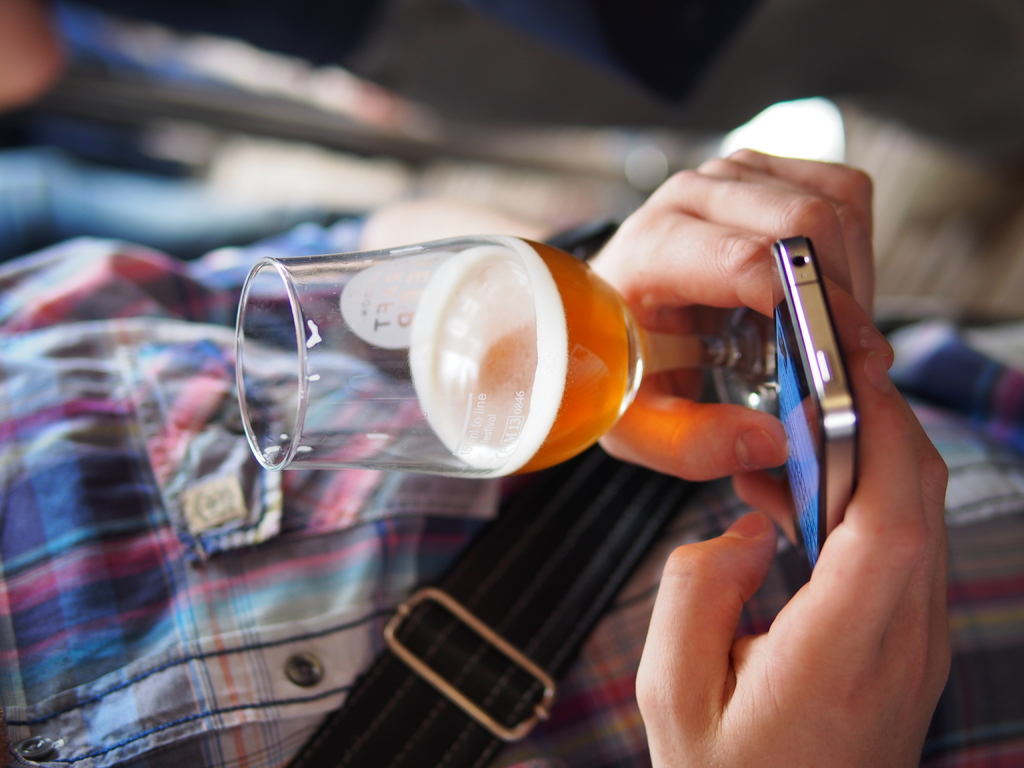Beer: (406, 238, 627, 476)
